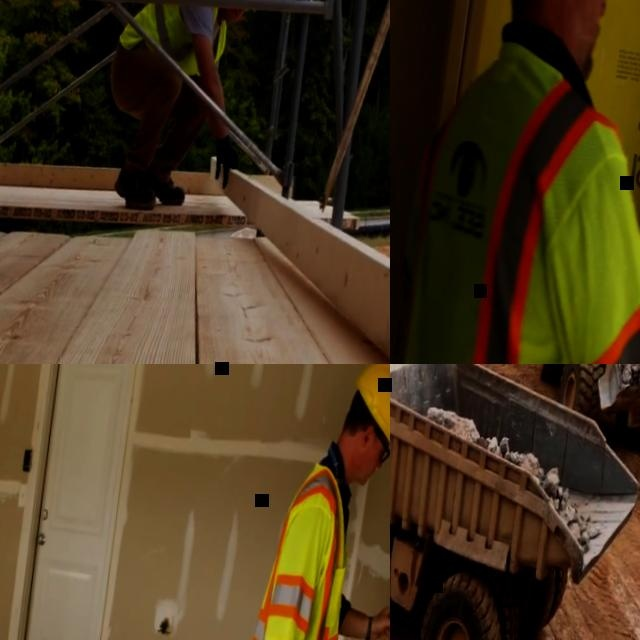Hardhat: (344, 364, 390, 454)
NO-Mask: (548, 0, 604, 75), (222, 0, 243, 20)
Person: (390, 0, 640, 364), (207, 364, 390, 640), (92, 0, 272, 223)
Safety Vest: (390, 41, 640, 364), (239, 455, 363, 640), (114, 0, 235, 79)
machinery: (390, 364, 640, 640), (528, 364, 640, 474)
